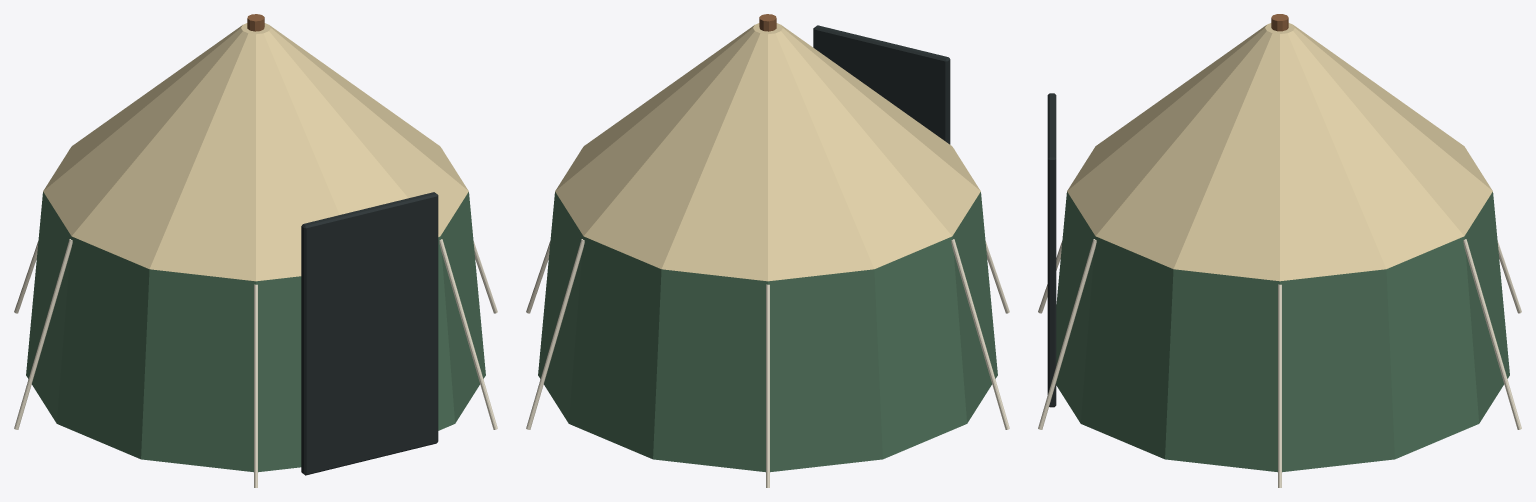
The model's file is Bell_Tent_A.glb.
3 renders of one model, left to right at view 1: azimuth 30°, elevation 25°; view 2: azimuth 150°, elevation 25°; view 3: azimuth 270°, elevation 25°, orthographic.
Parts seen in each view (by area): view 1: Bell_Tent_A; view 2: Bell_Tent_A; view 3: Bell_Tent_A.
Boxes of the visible parts, x1=… form: Bell_Tent_A: x1=14, y1=14, x2=497, y2=487; Bell_Tent_A: x1=526, y1=14, x2=1009, y2=487; Bell_Tent_A: x1=1038, y1=14, x2=1521, y2=487.
Size of the model in its own units: 2.23 by 1.58 by 1.93.
